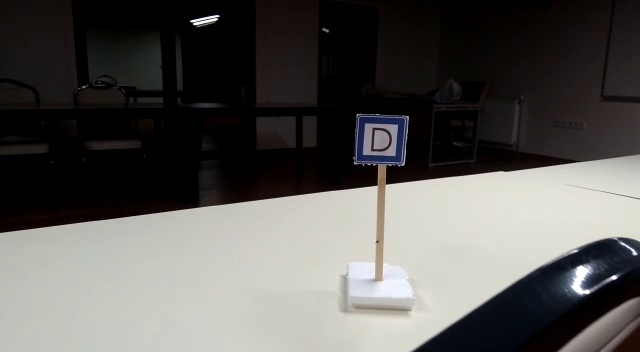durak: (354, 115, 408, 165)
